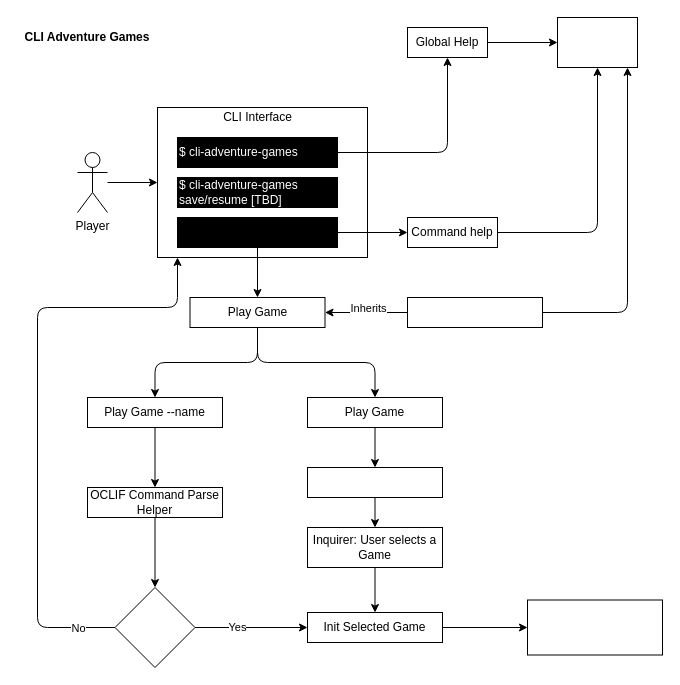
Some shapes in this 680 by 685 pixel diagram are drawn without their labels. The shapes that lost their labels are listed below. From the top down, each one's centre as x and y in pixels, then its label:
At (x=597, y=42): "OCLIF Helper Plugin".
At (x=257, y=232): "$ cli-adventure-games play".
At (x=474, y=312): "OCLIF Command Class".
At (x=374, y=482): "Inquirer: Show Games".
At (x=154, y=627): "Game exists?".
At (x=594, y=627): "Game Engine Init".
